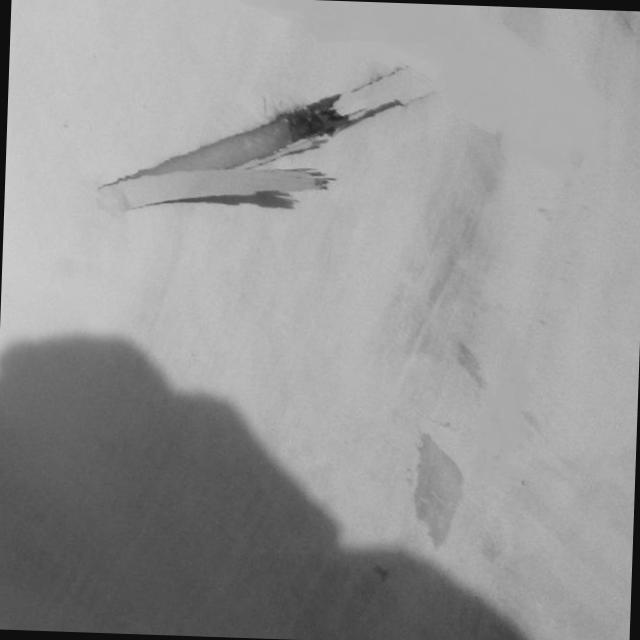crack: (93, 54, 438, 224)
